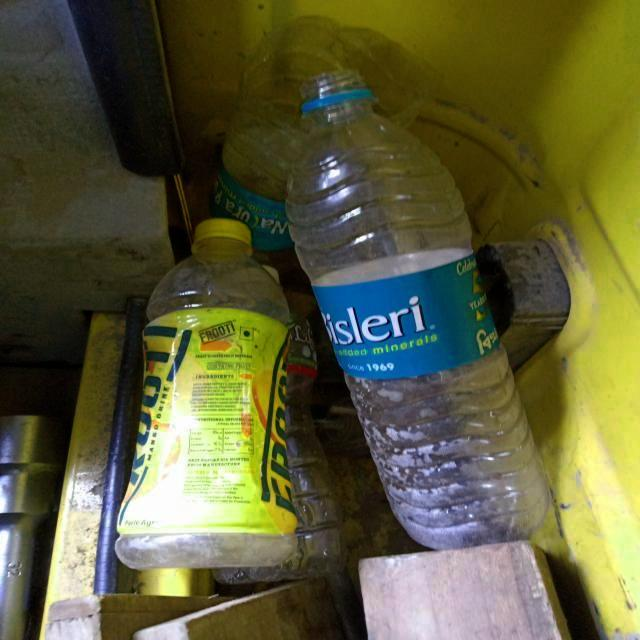bottle: (285, 73, 552, 552), (116, 217, 298, 570), (208, 20, 428, 263), (215, 264, 344, 585)
